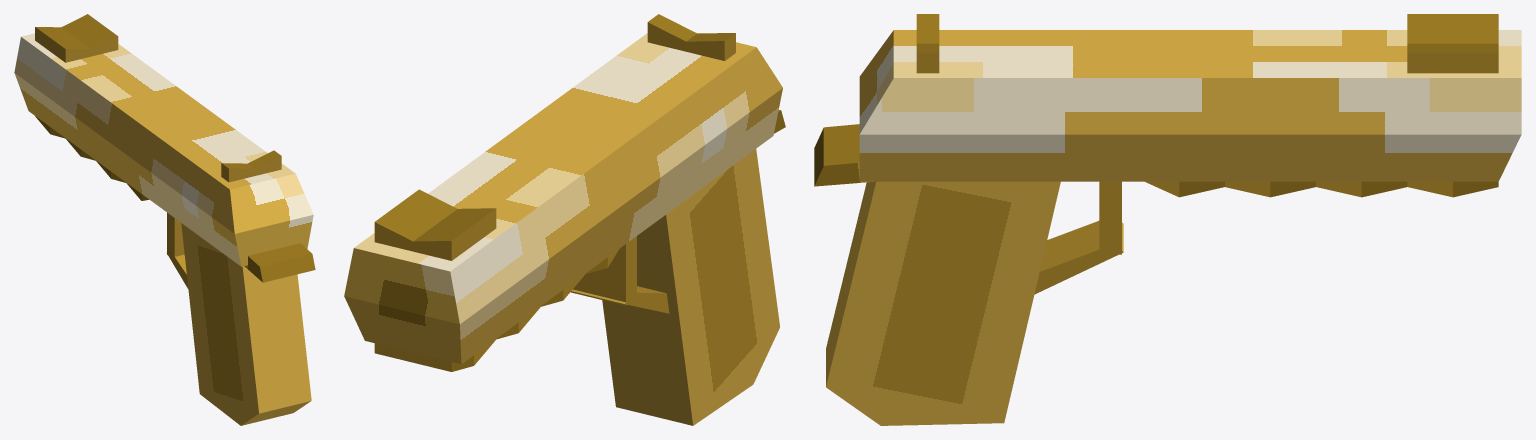
File: golden_eagle.gltf
3 views of the same model, side by side, from view 1: azimuth 30°, elevation 25°; view 2: azimuth 150°, elevation 25°; view 3: azimuth 270°, elevation 25° (orthographic). The views are drawn at different scales.
Visible parts, largest first — view 1: mesh (×8); view 2: mesh (×7); view 3: mesh (×8).
Part boxes in pixels (x1,y1,x2,y2): mesh (×8): (14, 14, 315, 425); mesh (×7): (344, 14, 782, 425); mesh (×8): (814, 14, 1521, 425).
Size of the model in its own units: 0.1875 by 0.564 by 0.9681.
1 material, 1 textured.
